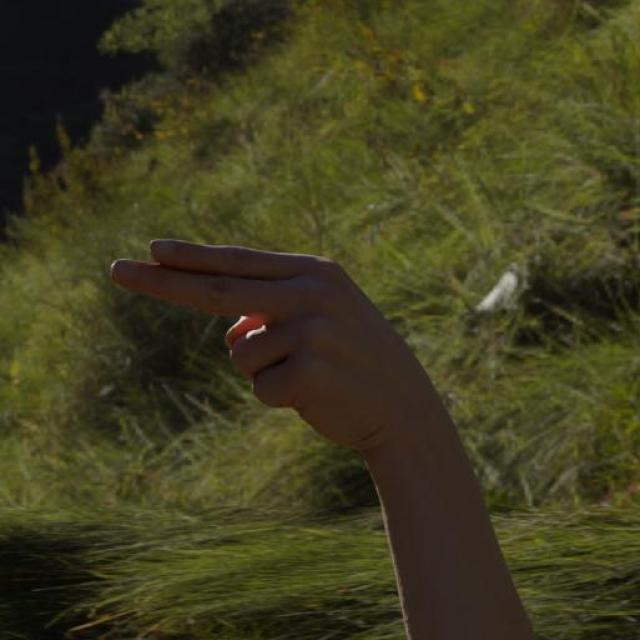H: (98, 232, 430, 438)
